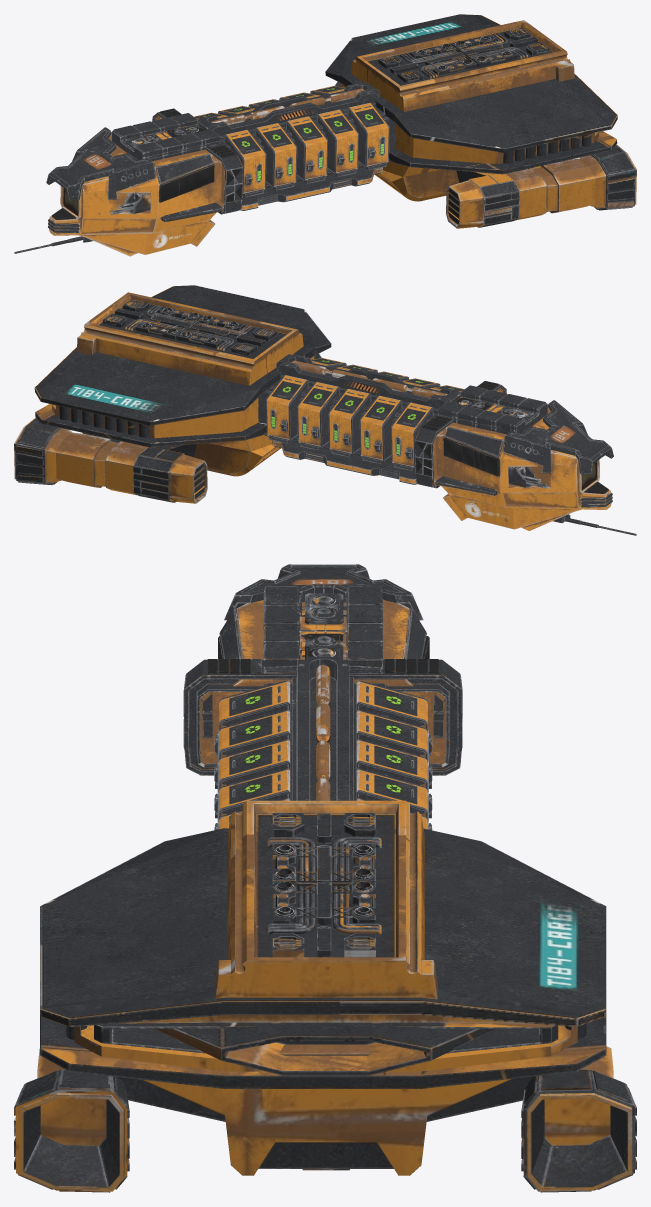
Rendered from cargo-blaice-detail.glb.
3 renders of one model, top to bottom at view 1: azimuth 30°, elevation 25°; view 2: azimuth 150°, elevation 25°; view 3: azimuth 270°, elevation 25°, orthographic. The views are drawn at different scales.
Visible parts, largest first — view 1: cargo-blaice; view 2: cargo-blaice; view 3: cargo-blaice.
Boxes of the visible parts, x1,y1,x2,y2 form: cargo-blaice: [14, 14, 636, 256]; cargo-blaice: [14, 285, 636, 535]; cargo-blaice: [14, 564, 636, 1192].
Size of the model in its own units: 75 by 17.24 by 40.15.
3 materials, 3 textured.
